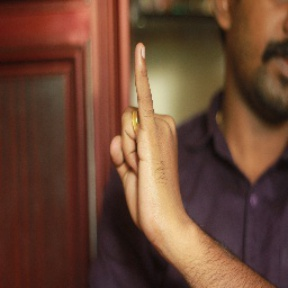I: (103, 39, 191, 228)
